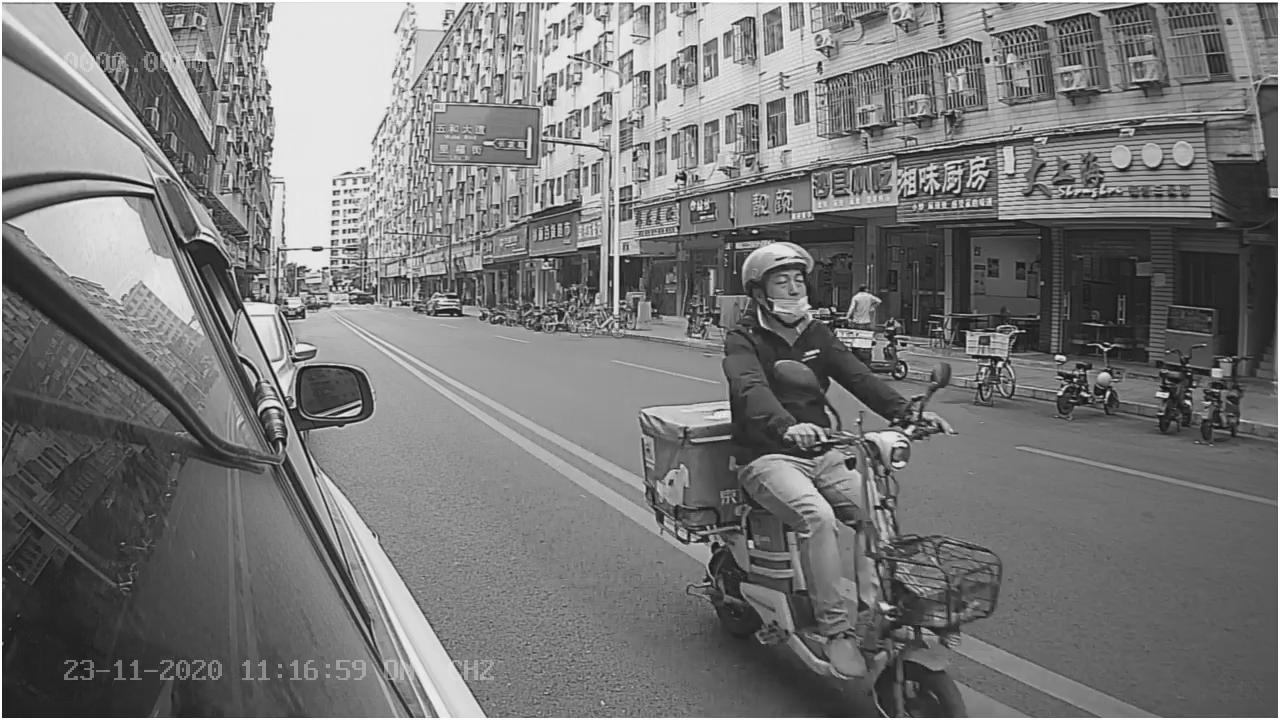person: (720, 238, 960, 436)
